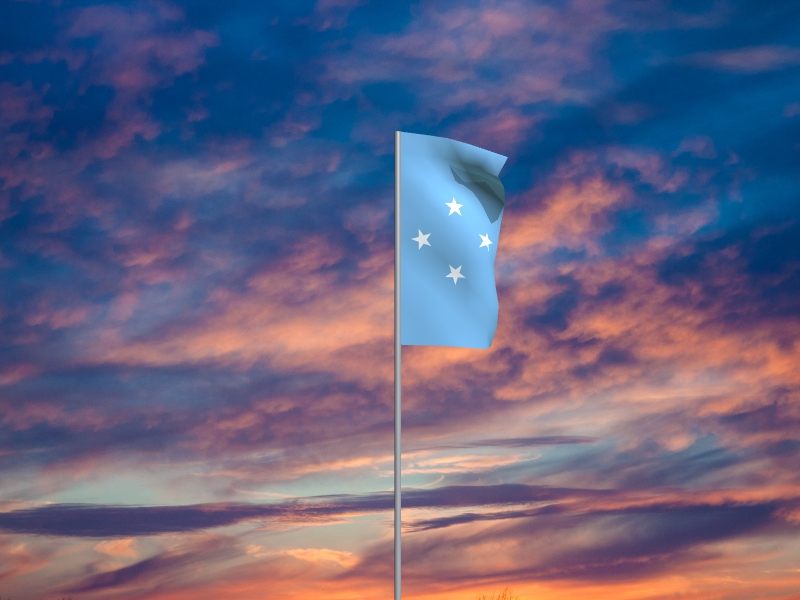fm: (401, 133, 510, 350)
